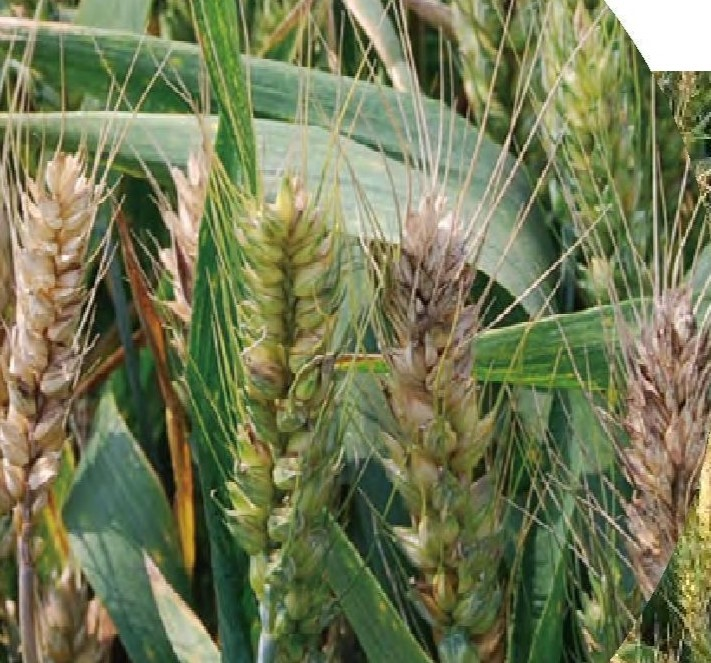Wheat scab: (181, 167, 340, 577), (366, 185, 508, 643), (1, 128, 105, 521)
